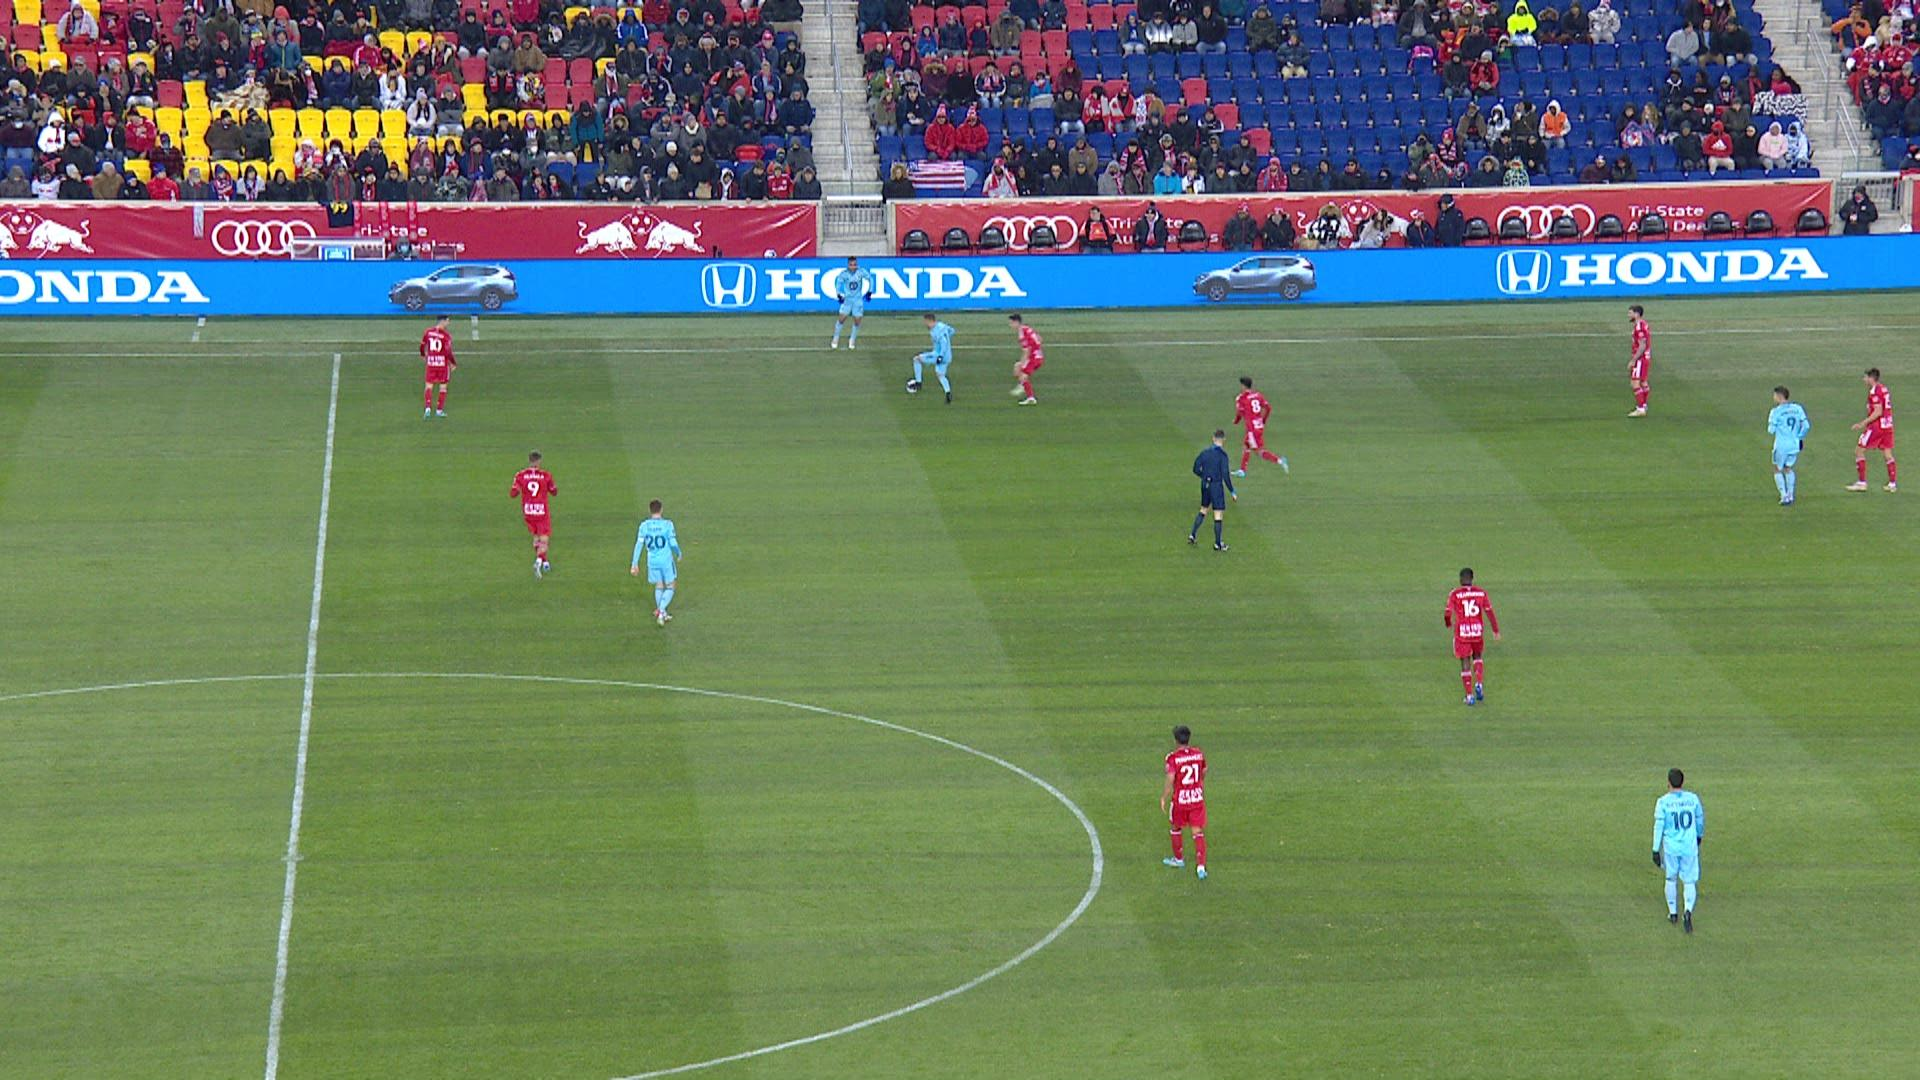football: (905, 379, 917, 393)
